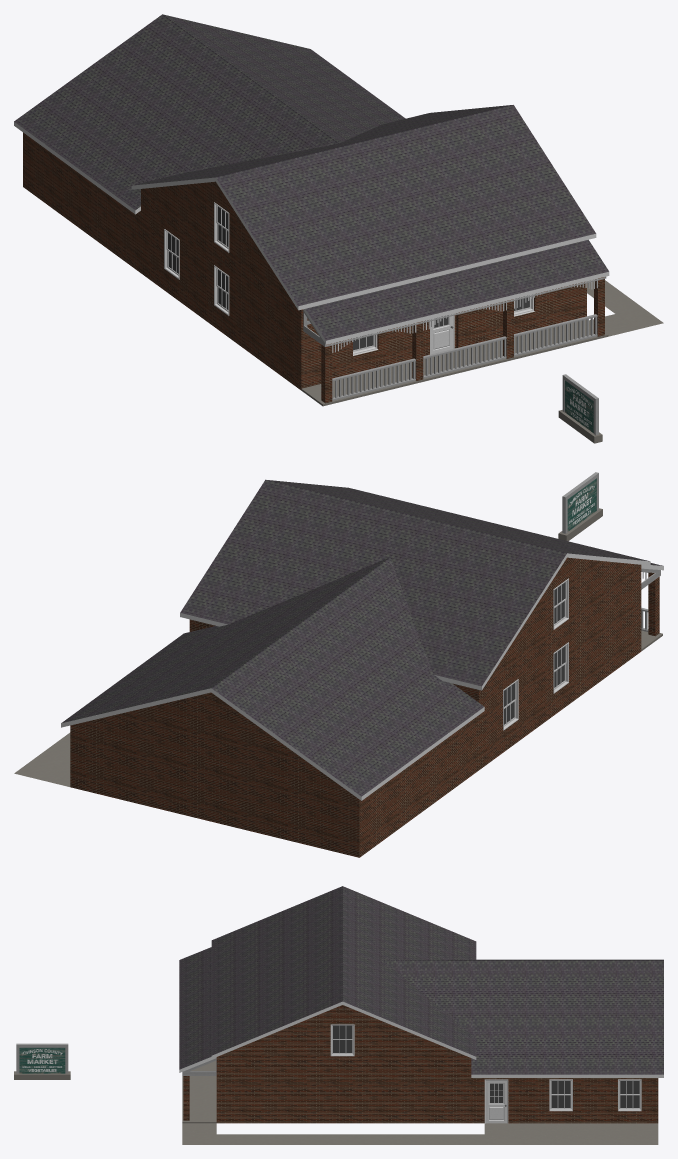
File: fog_market.glb
The picture shows the model from 3 angles, top to bottom: view 1: azimuth 30°, elevation 25°; view 2: azimuth 150°, elevation 25°; view 3: azimuth 270°, elevation 25°; orthographic projection. The views are drawn at different scales.
Visible parts, largest first — view 1: Material27, Material2, Material26, Material29, Material25, Material212, Material211; view 2: Material27, Material2, Material26, Material25, Material212, Material211, Material29; view 3: Material27, Material2, Material25, Material26, Material212, Material211, Material29.
Part boxes in pixels (x1,y1,x2,y2): Material27: [14, 14, 608, 340]; Material2: [23, 132, 604, 403]; Material26: [14, 122, 609, 355]; Material29: [303, 276, 606, 434]; Material25: [301, 279, 663, 443]; Material212: [168, 206, 529, 350]; Material211: [565, 380, 593, 432]; Material27: [61, 479, 662, 796]; Material2: [70, 557, 659, 857]; Material26: [61, 553, 663, 800]; Material25: [14, 508, 662, 786]; Material212: [504, 582, 565, 724]; Material211: [567, 478, 596, 531]; Material29: [562, 472, 660, 631]; Material27: [179, 886, 663, 1074]; Material2: [183, 1005, 658, 1123]; Material25: [14, 1061, 658, 1144]; Material26: [179, 1001, 663, 1123]; Material212: [333, 1025, 639, 1107]; Material211: [19, 1047, 65, 1073]; Material29: [16, 1043, 216, 1075].
Bounding box in the file's own units: 1.96 × 0.844 × 4.
8 materials, 6 textured.
